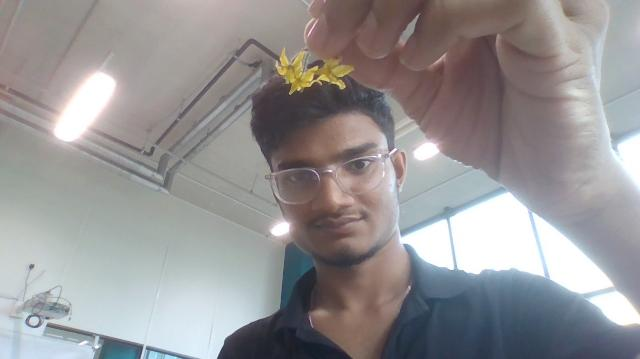Anthesis: (275, 47, 312, 92), (311, 57, 355, 89), (304, 70, 332, 88)
